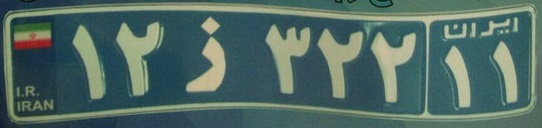1: (69, 20, 116, 103), (437, 39, 481, 113), (485, 35, 529, 106)
2: (111, 16, 169, 99), (314, 23, 367, 105), (369, 26, 421, 108)
3: (261, 19, 316, 98)
ز: (178, 12, 240, 99)
